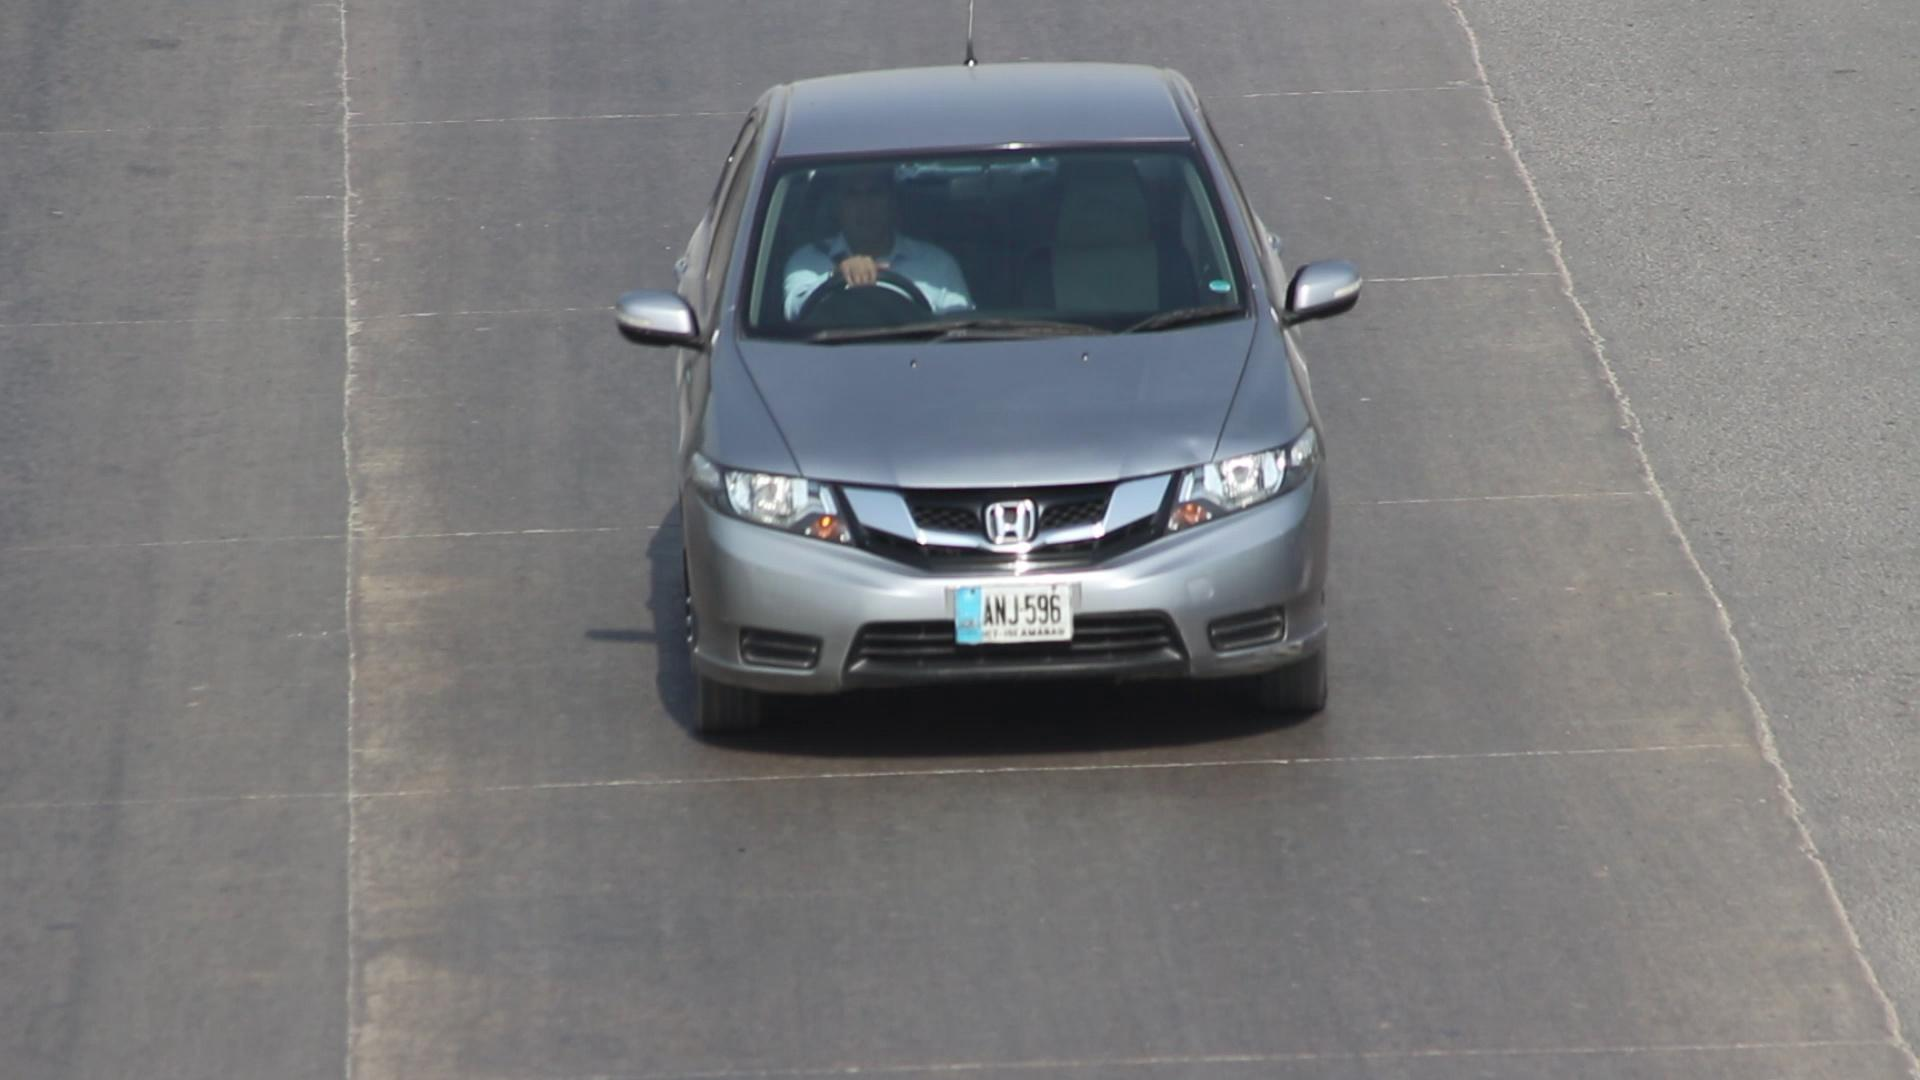windshield: (721, 113, 1280, 371)
